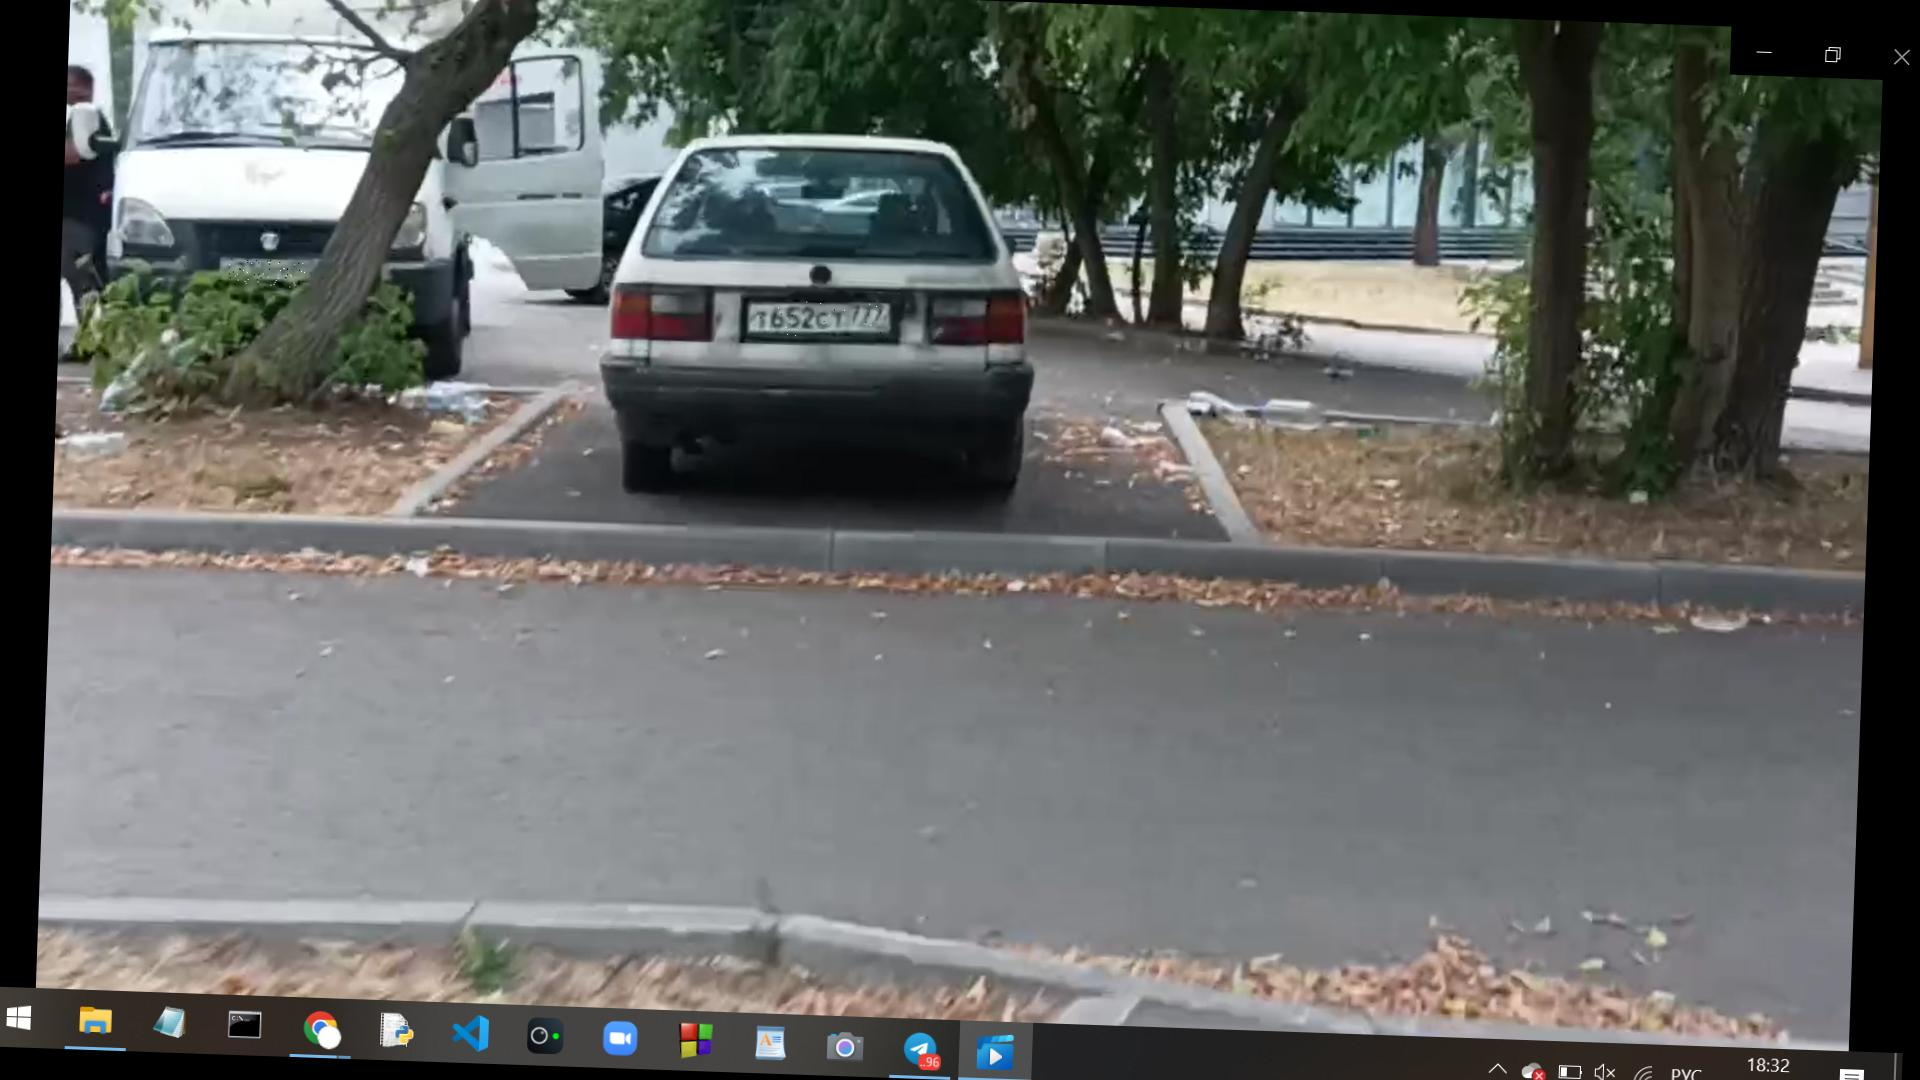plate: (759, 300, 892, 341), (231, 260, 310, 291)
